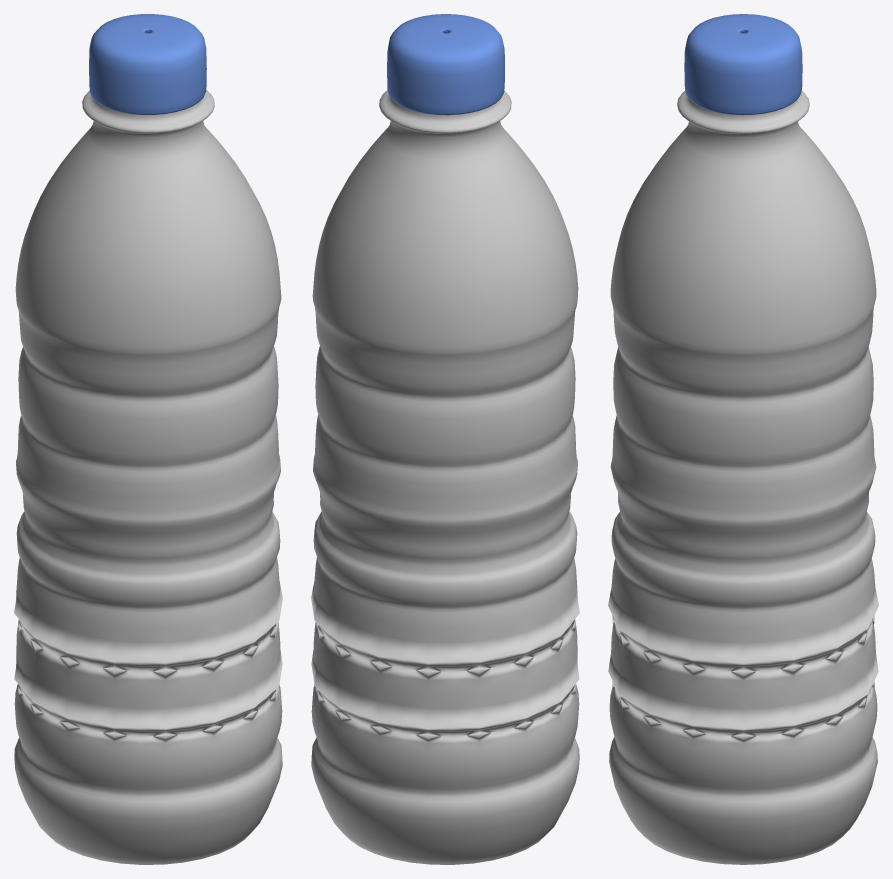
The picture shows the model from 3 angles, left to right: view 1: azimuth 30°, elevation 25°; view 2: azimuth 150°, elevation 25°; view 3: azimuth 270°, elevation 25°; orthographic projection.
Parts seen in each view (by area): view 1: Vert_1, Vert.001_0; view 2: Vert_1, Vert.001_0; view 3: Vert_1, Vert.001_0.
Boxes of the visible parts, x1=… form: Vert_1: x1=14, y1=90, x2=282, y2=864; Vert.001_0: x1=89, y1=14, x2=206, y2=114; Vert_1: x1=311, y1=90, x2=579, y2=864; Vert.001_0: x1=387, y1=14, x2=504, y2=115; Vert_1: x1=608, y1=91, x2=878, y2=864; Vert.001_0: x1=684, y1=14, x2=802, y2=115.
Size of the model in its own units: 5.17 by 16.86 by 5.17.
